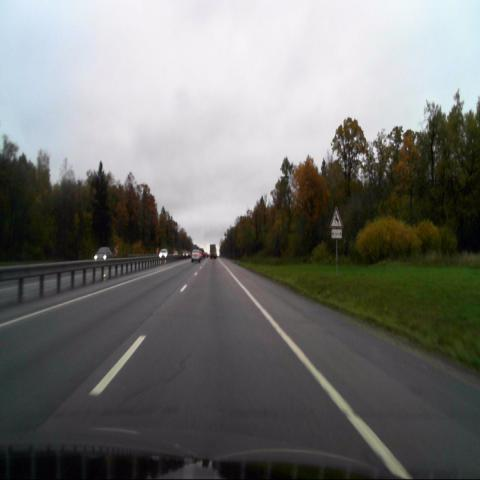1_27: (330, 207, 342, 229)
